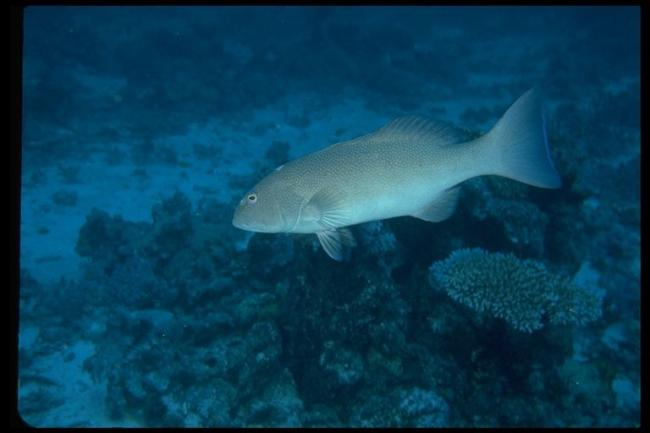fish: (232, 84, 564, 261)
